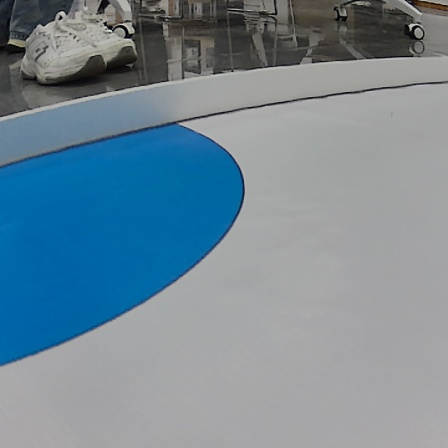blue_base: (0, 121, 247, 382)
